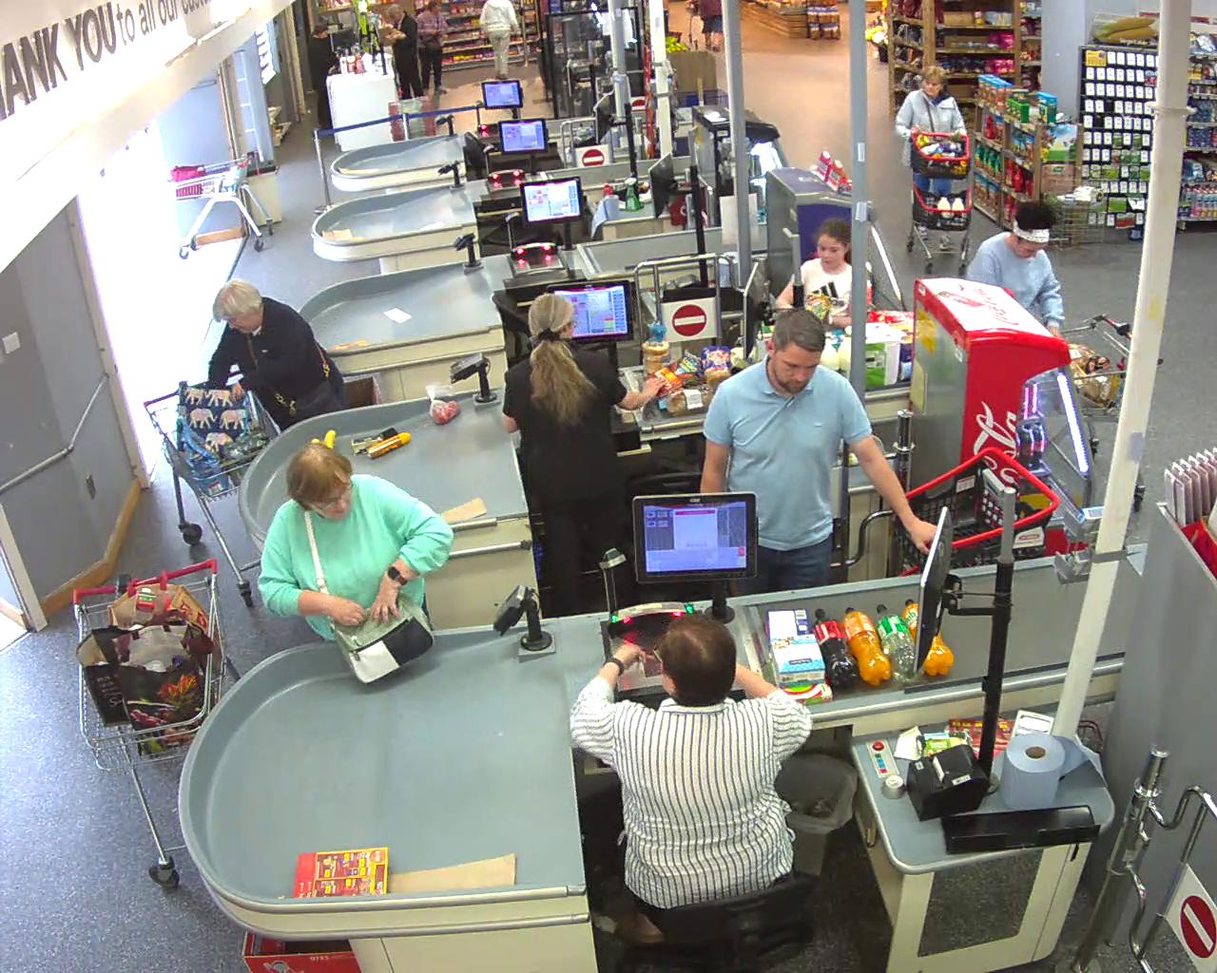filled-trolly: (1053, 314, 1164, 455), (906, 130, 973, 275)
occupied-checkout-counter: (492, 493, 814, 973), (447, 273, 656, 583)
person: (964, 200, 1065, 333), (896, 64, 966, 248)
person-with-filled-basket-trolly: (964, 202, 1164, 455), (897, 66, 974, 277)
vacant-checkout-counter: (455, 176, 599, 342), (437, 115, 566, 214), (434, 77, 535, 150)
